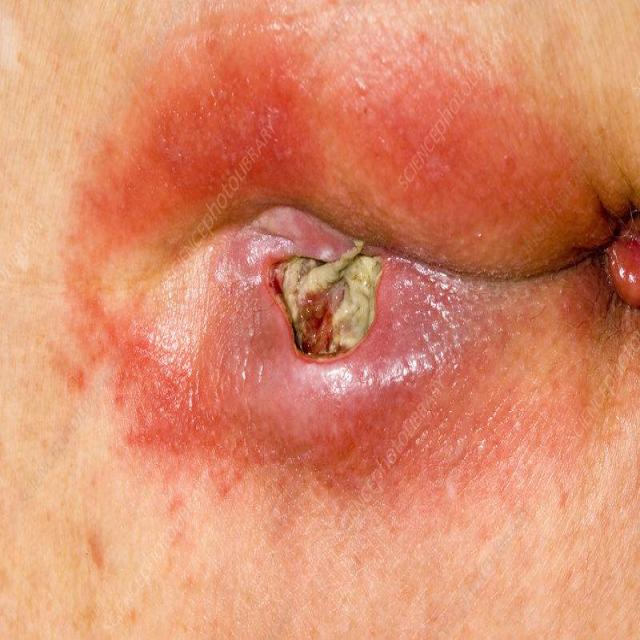Unstageable: (274, 241, 381, 356)
stage-1: (116, 74, 325, 232), (368, 78, 584, 228)
